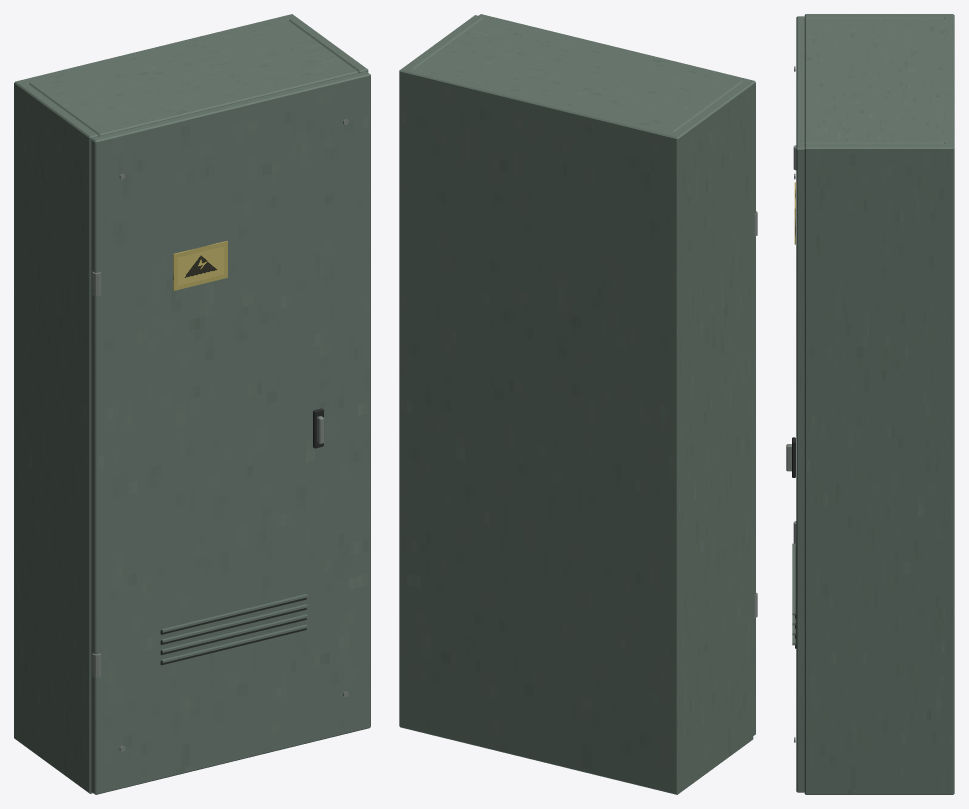
Rendered from electrical_cabinet_closed.glb.
3 views of the same model, side by side, from view 1: azimuth 30°, elevation 25°; view 2: azimuth 150°, elevation 25°; view 3: azimuth 270°, elevation 25° (orthographic).
Parts seen in each view (by area): view 1: electrical_cabinet_closed; view 2: electrical_cabinet_closed; view 3: electrical_cabinet_closed.
Boxes of the visible parts, x1,y1,x2,y2 form: electrical_cabinet_closed: (14, 14, 370, 794); electrical_cabinet_closed: (399, 14, 757, 794); electrical_cabinet_closed: (786, 14, 954, 794).
Bounding box in the file's own units: 0.72 × 1.62 × 0.381.
Materials: 4 (4 with a texture image).
